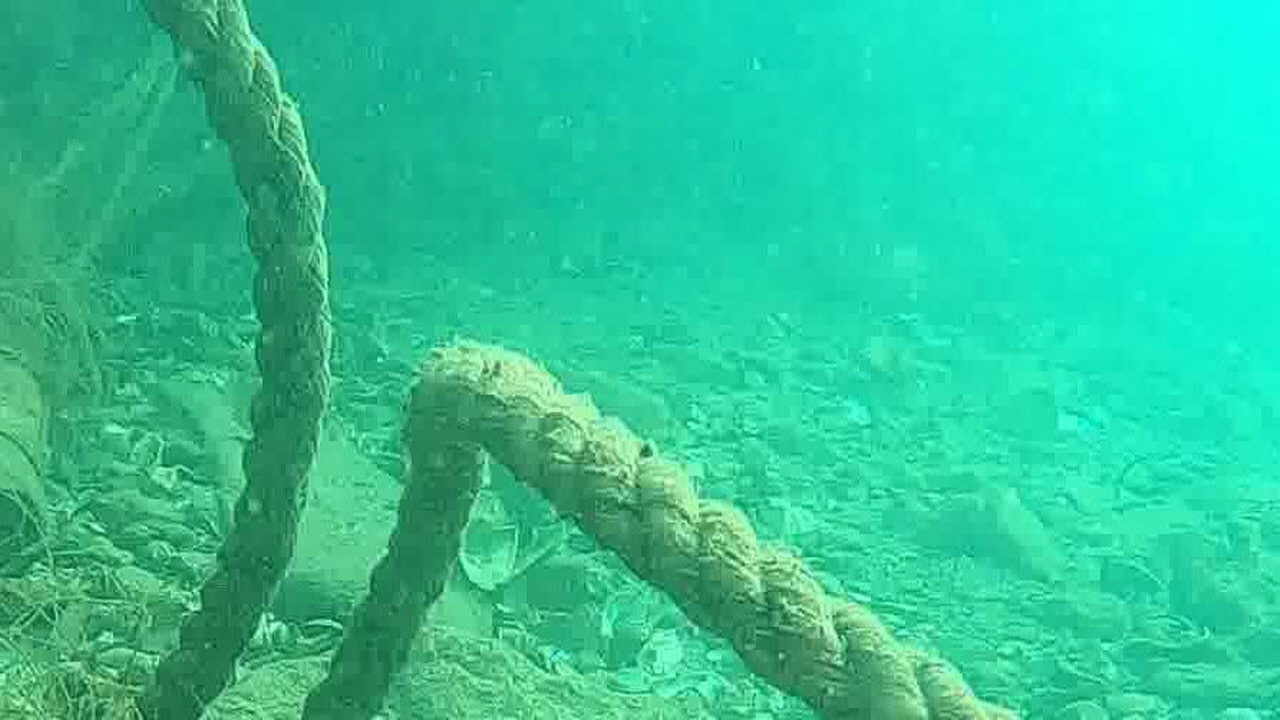rope: (300, 337, 1025, 720), (128, 0, 334, 720)
